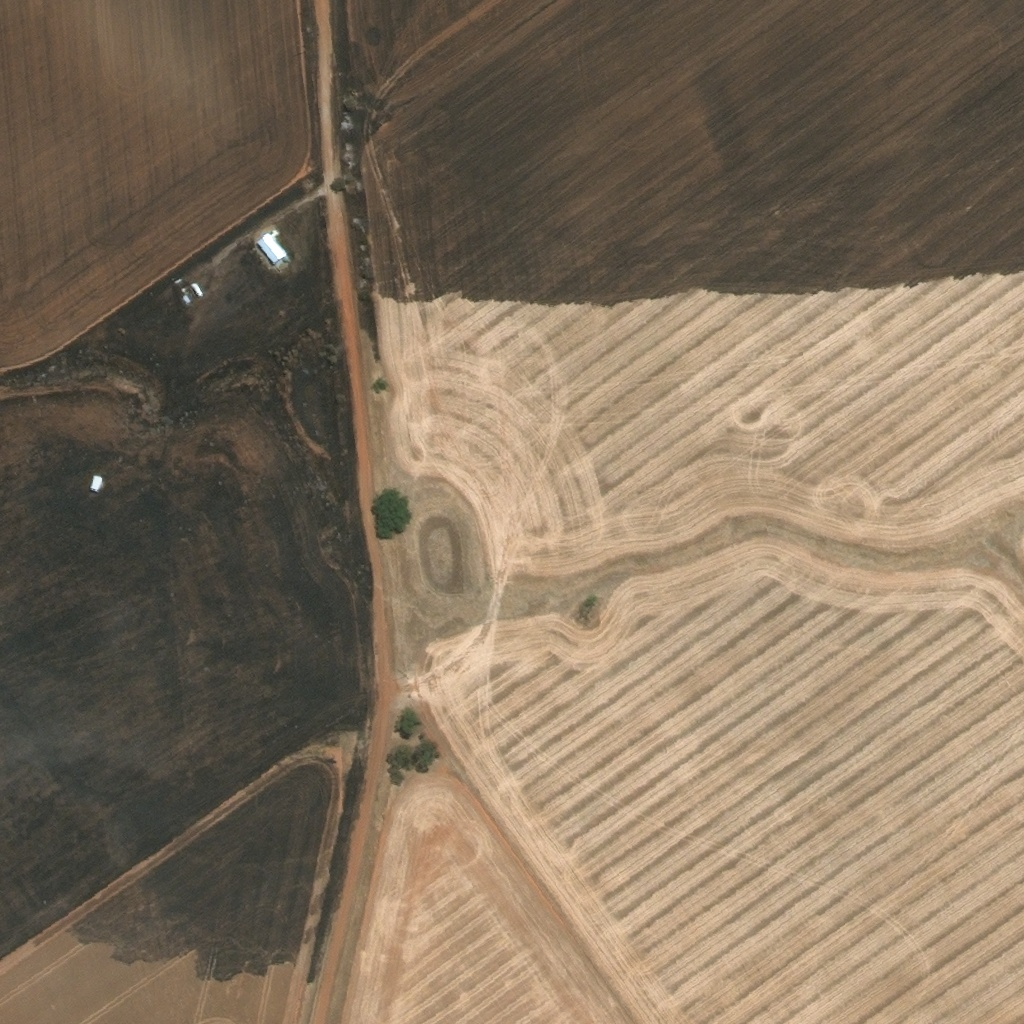0 no-damage: (256, 232, 285, 264), (89, 474, 103, 491)
1 minor-damage: (190, 283, 201, 297)
3 destroyed: (180, 291, 195, 305)
